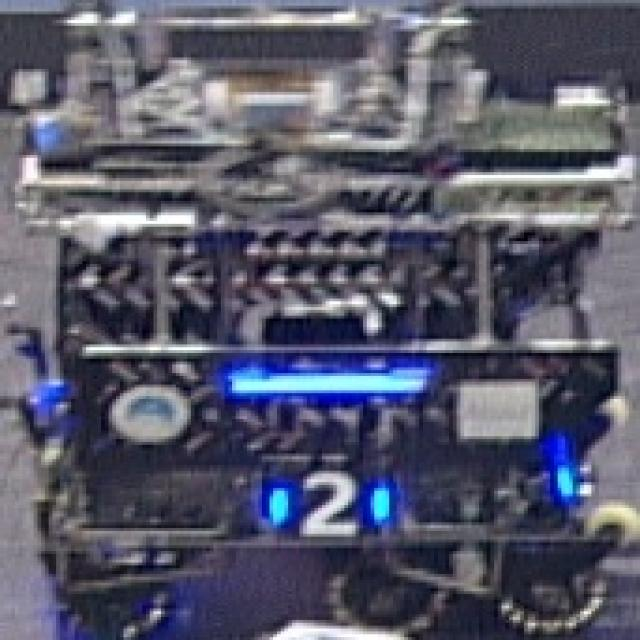B2: (252, 462, 398, 542)
